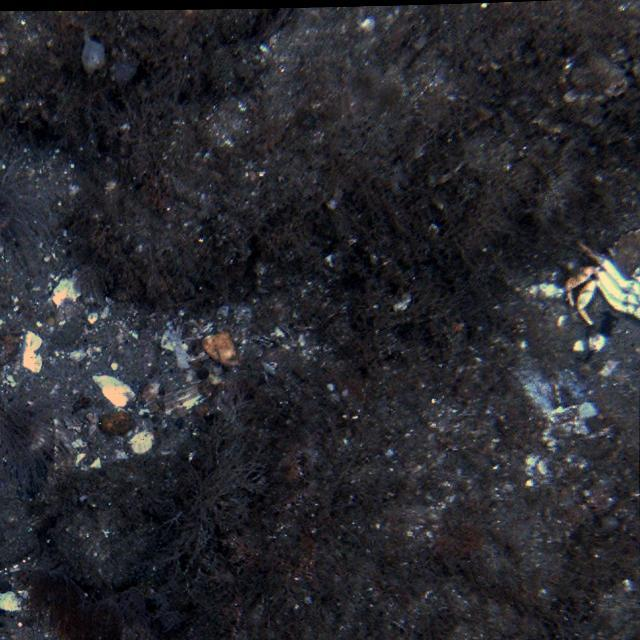crab: (572, 224, 640, 344)
